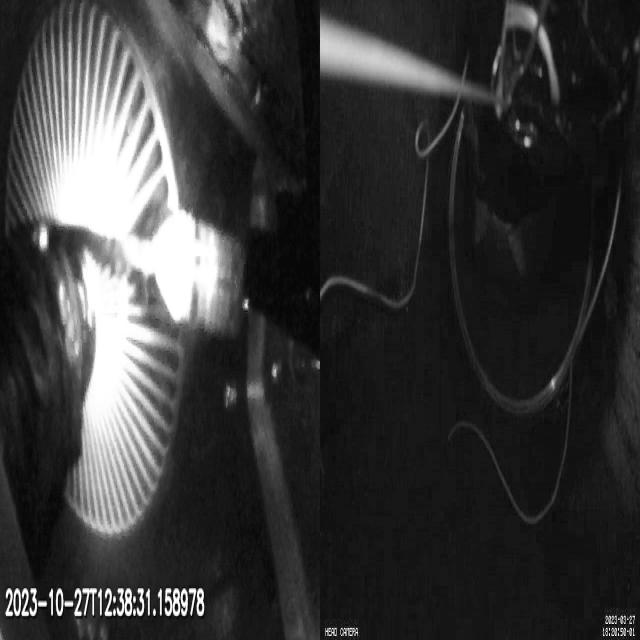head: (155, 216, 246, 342)
